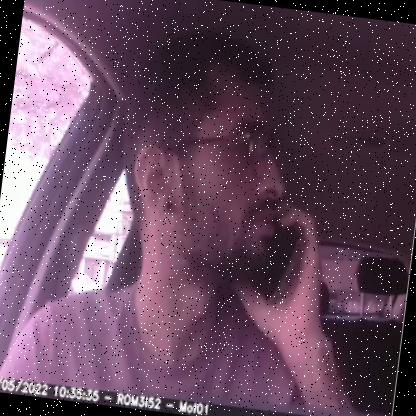phone: (246, 198, 316, 316)
